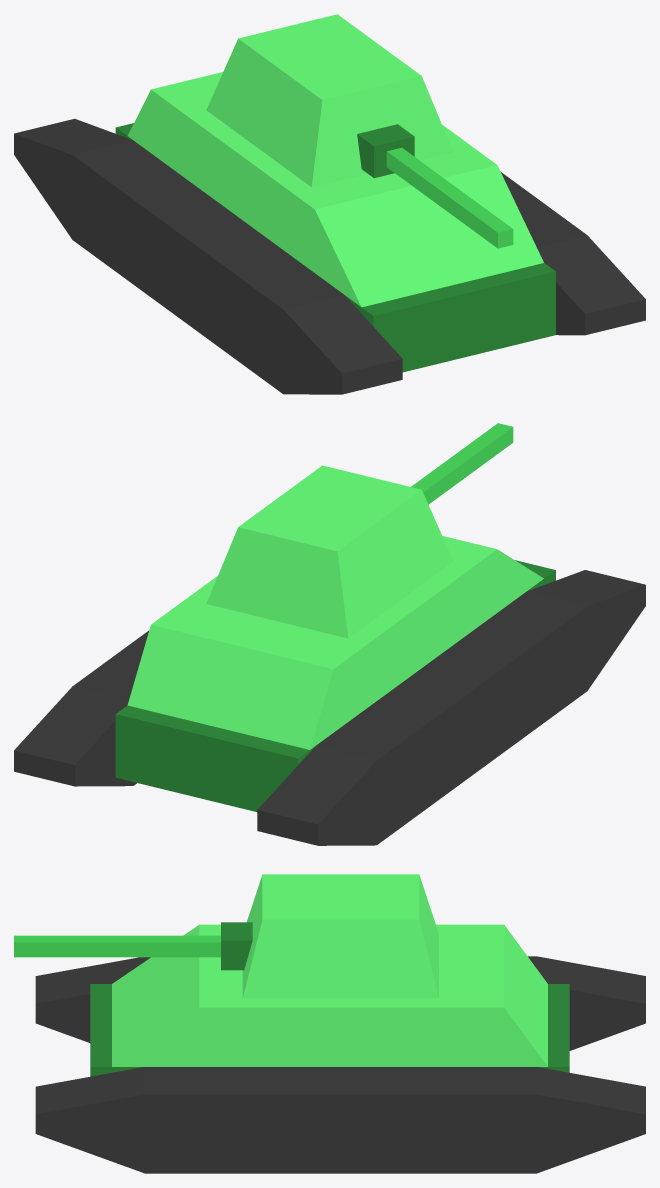
Rendered from tank.glb.
The picture shows the model from 3 angles, top to bottom: view 1: azimuth 30°, elevation 25°; view 2: azimuth 150°, elevation 25°; view 3: azimuth 270°, elevation 25°; orthographic projection. The views are drawn at different scales.
Visible parts, largest first — view 1: Hull, TrackLeft, Turret, TrackRight, Cannon; view 2: Hull, TrackLeft, Turret, TrackRight, Cannon; view 3: TrackRight, Hull, Turret, TrackLeft, Cannon.
Part boxes in pixels (x1,y1,x2,y2): Hull: (115, 72, 555, 372); TrackLeft: (14, 118, 402, 394); Turret: (206, 14, 453, 187); TrackRight: (501, 172, 645, 335); Cannon: (357, 124, 513, 248); Hull: (115, 536, 555, 811); TrackLeft: (257, 570, 645, 845); Turret: (206, 465, 453, 638); TrackRight: (14, 630, 148, 786); Cannon: (411, 423, 513, 504); TrackRight: (35, 1067, 645, 1173); Hull: (90, 924, 569, 1076); Turret: (242, 874, 438, 998); TrackLeft: (35, 956, 645, 1050); Cannon: (14, 922, 252, 970).
Bounding box in the file's own units: 3 × 2.1 × 5.8.
